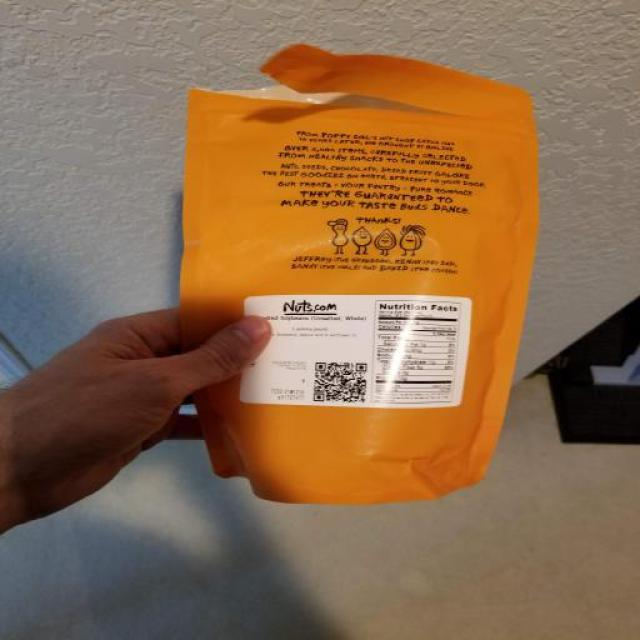QR_CODE: (304, 352, 378, 413)
